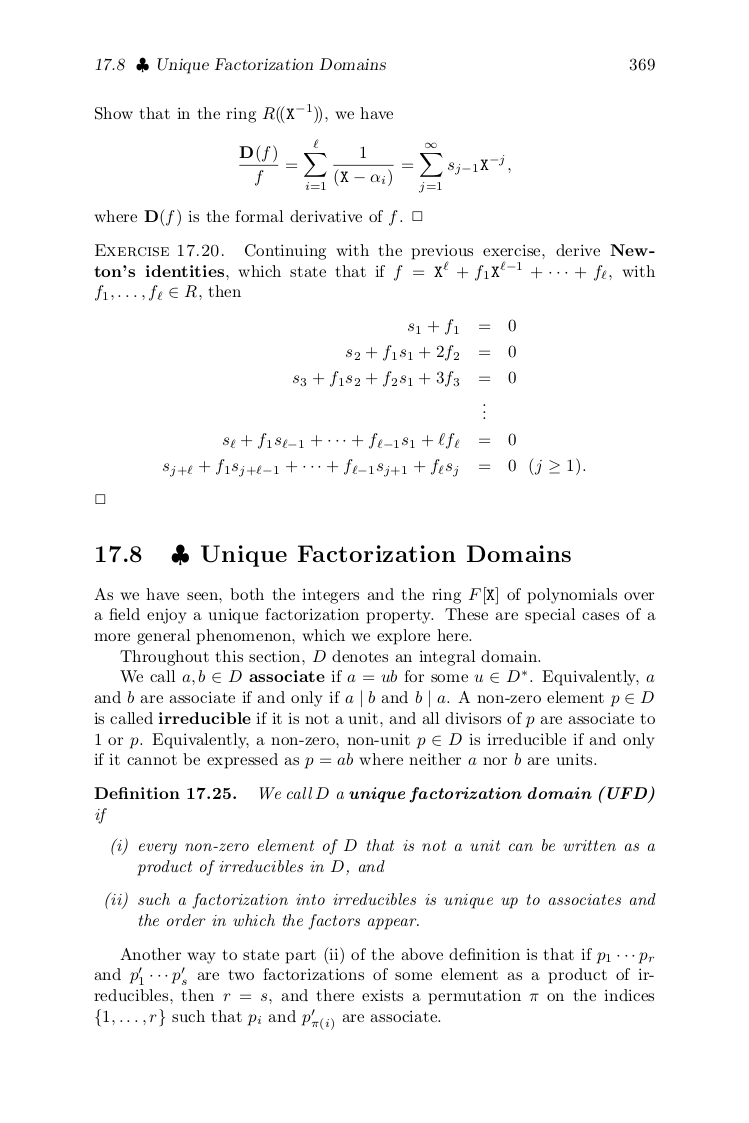formula: (239, 138, 510, 193), (163, 457, 585, 477), (223, 432, 515, 449), (293, 370, 515, 387), (346, 344, 515, 361), (408, 318, 515, 335)
